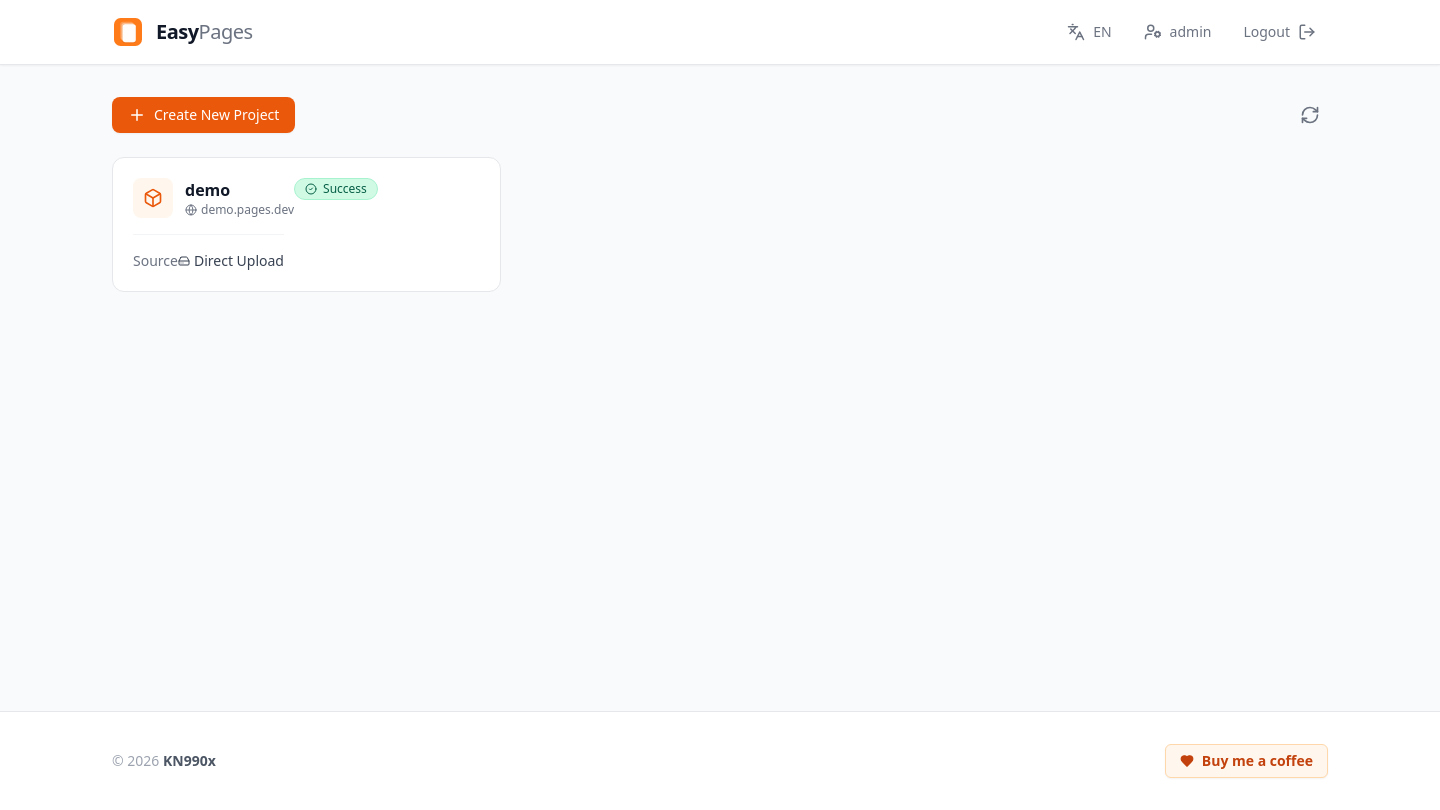
Scenario: App authentication state machine › does not pretend the history is empty when deployments fail to load
Click the button "demo".
click(153, 198)  # box [112,157,501,292]
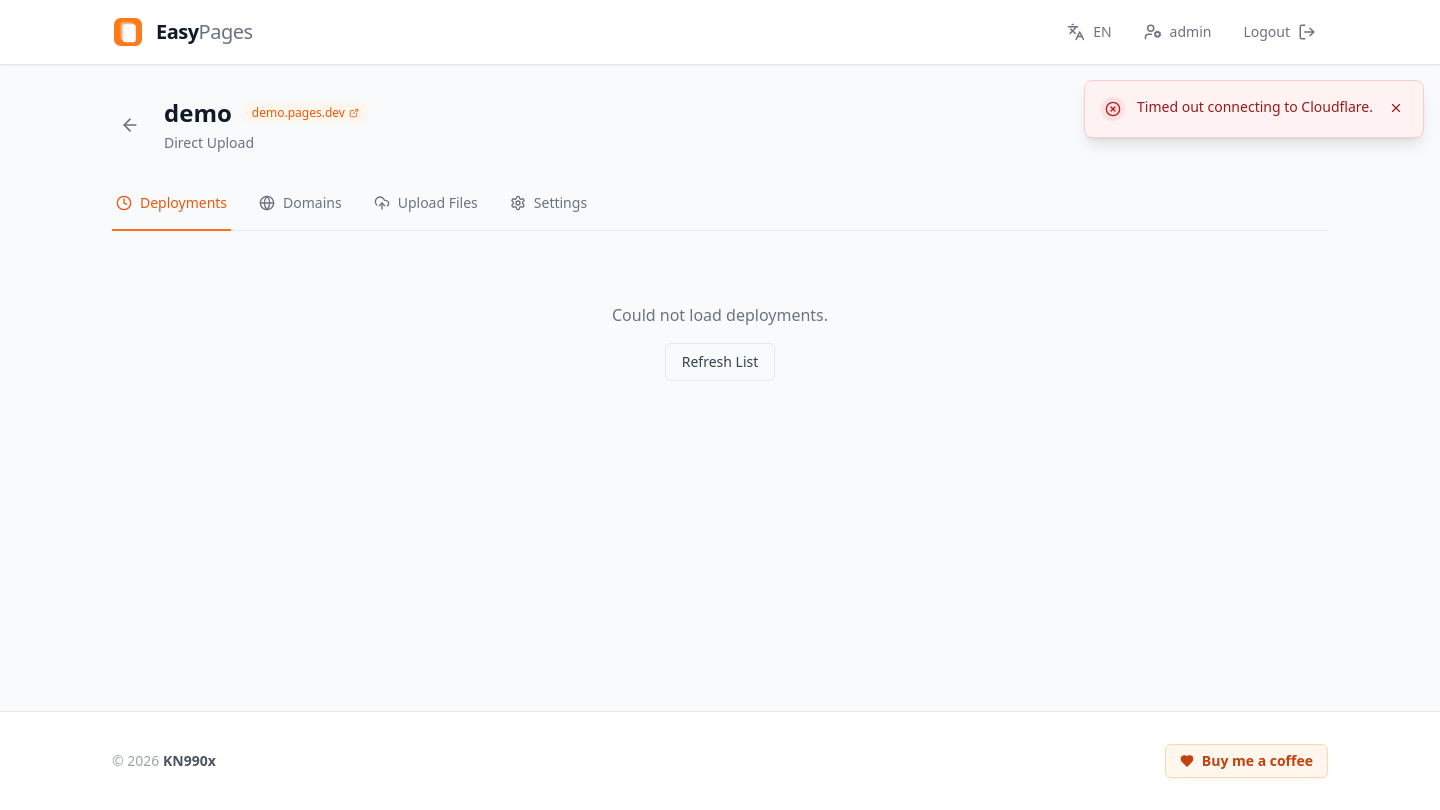
Expected: the text "Could not load deployments." is shown, [612,304,828,326]
Expected: the button "Refresh List" is shown, [665,343,775,381]
